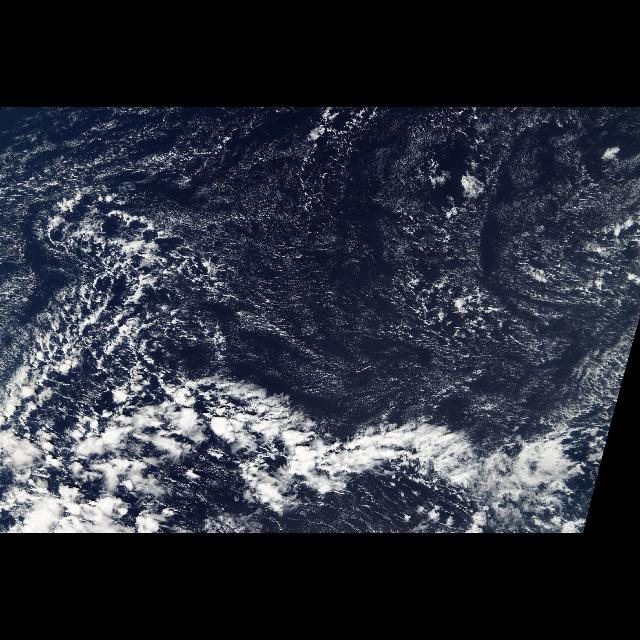Fish: (24, 204, 212, 380)
Gravel: (384, 172, 640, 360)
Sugar: (127, 118, 636, 404)
